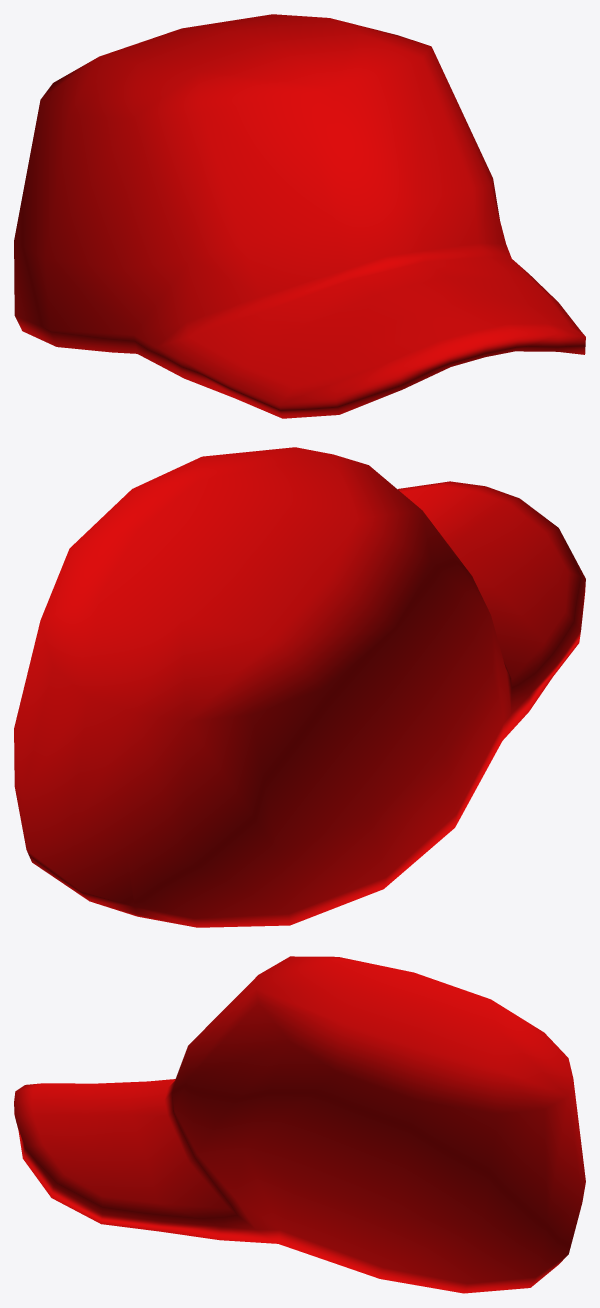
The model's file is Hat_MilitaryHat.glb.
The picture shows the model from 3 angles, top to bottom: view 1: azimuth 30°, elevation 25°; view 2: azimuth 150°, elevation 25°; view 3: azimuth 270°, elevation 25°; orthographic projection. The views are drawn at different scales.
Parts seen in each view (by area): view 1: Hat_MilitaryHat; view 2: Hat_MilitaryHat; view 3: Hat_MilitaryHat.
Boxes of the visible parts, x1,y1,x2,y2 form: Hat_MilitaryHat: (14, 14, 585, 418); Hat_MilitaryHat: (14, 447, 585, 927); Hat_MilitaryHat: (14, 956, 585, 1293).
Bounding box in the file's own units: 0.2576 × 0.1947 × 0.395.
